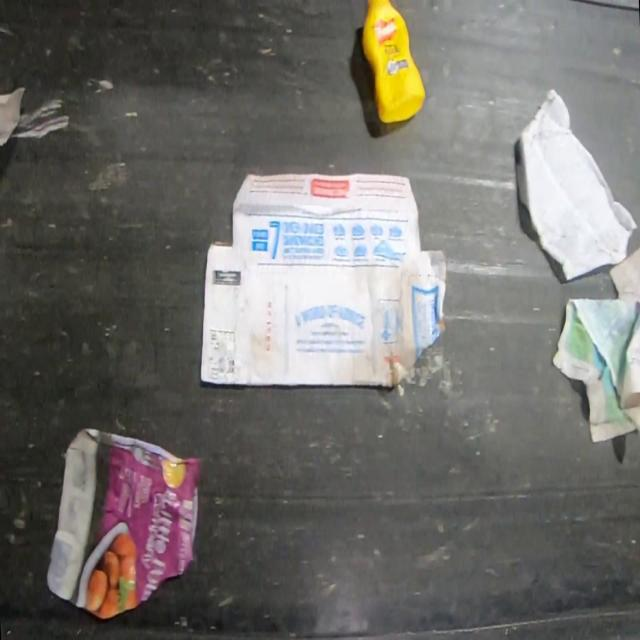cardboard: (199, 172, 448, 386)
rigid_plastic: (361, 0, 425, 123)
soft_plastic: (44, 423, 203, 622)
